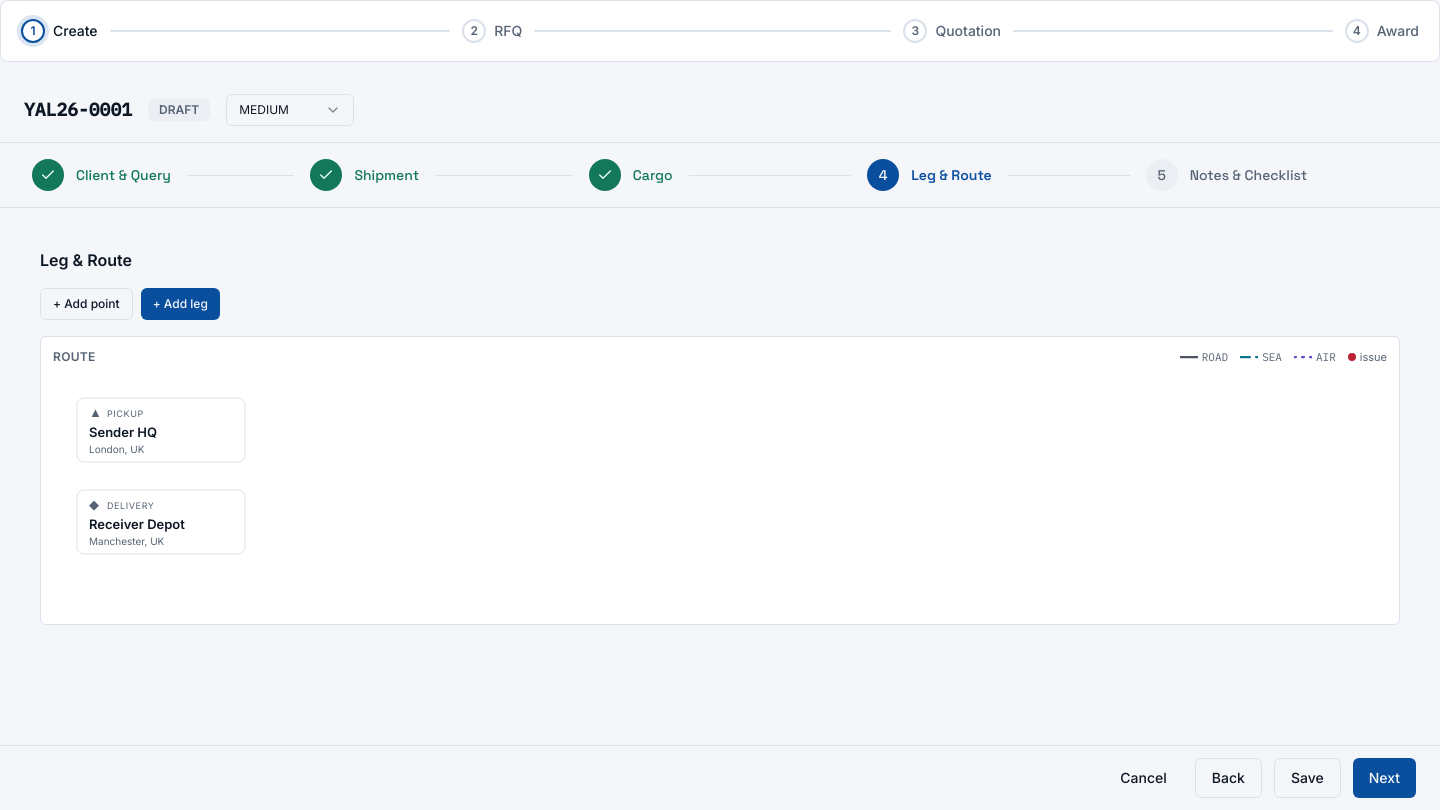
Test: LegsStep › Next advances from Step 4 even when the route has errors (Round-1 Common #5)
Expected: the text "YAL26-0001" is shown, [24,98,132,121]
Click the button "4 Leg & Route" at (929, 175), box [859,155,1000,195]
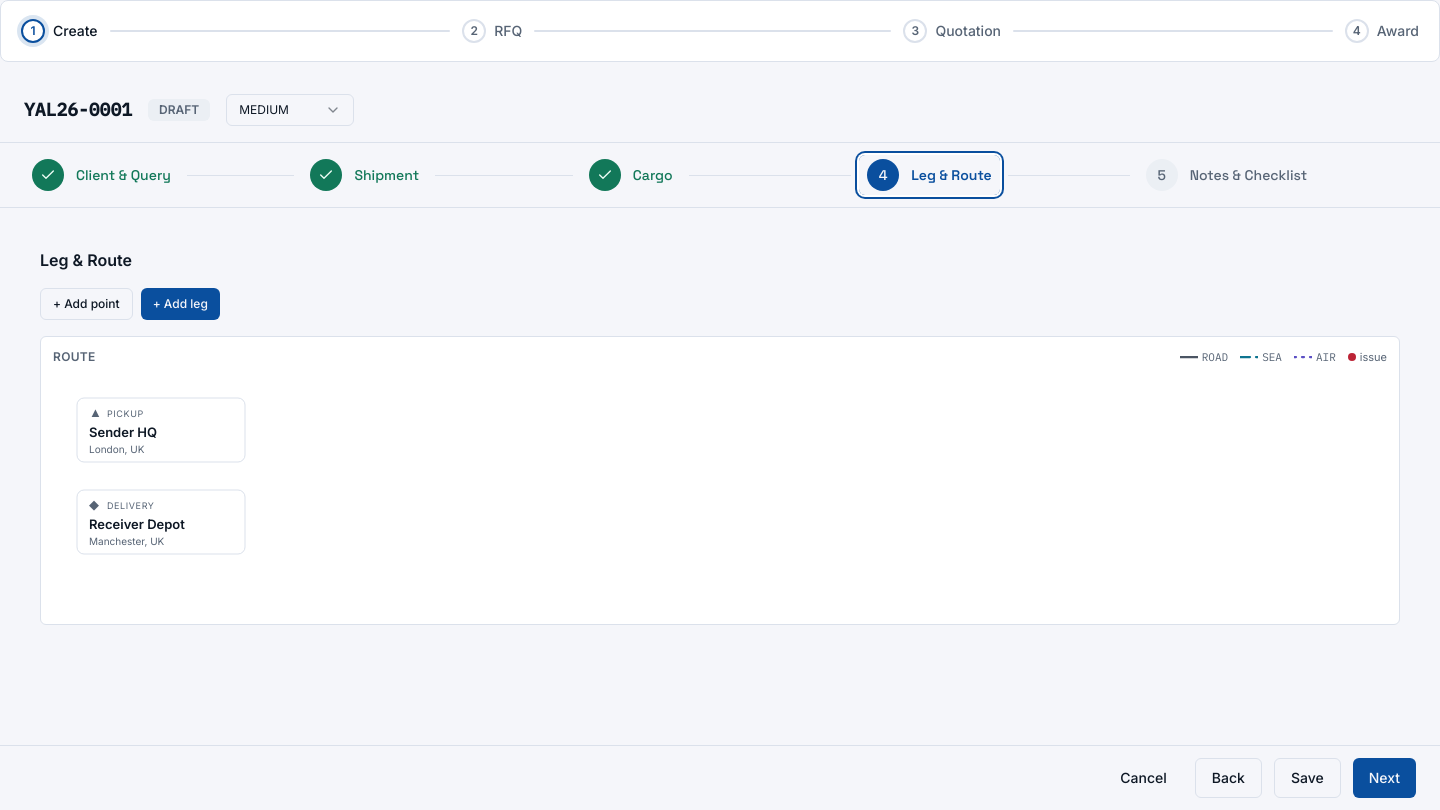
Expected: the element named "Route diagram" is shown, [40,336,1400,624]
Click the button "Next" at (1384, 778), box [1353,758,1416,798]
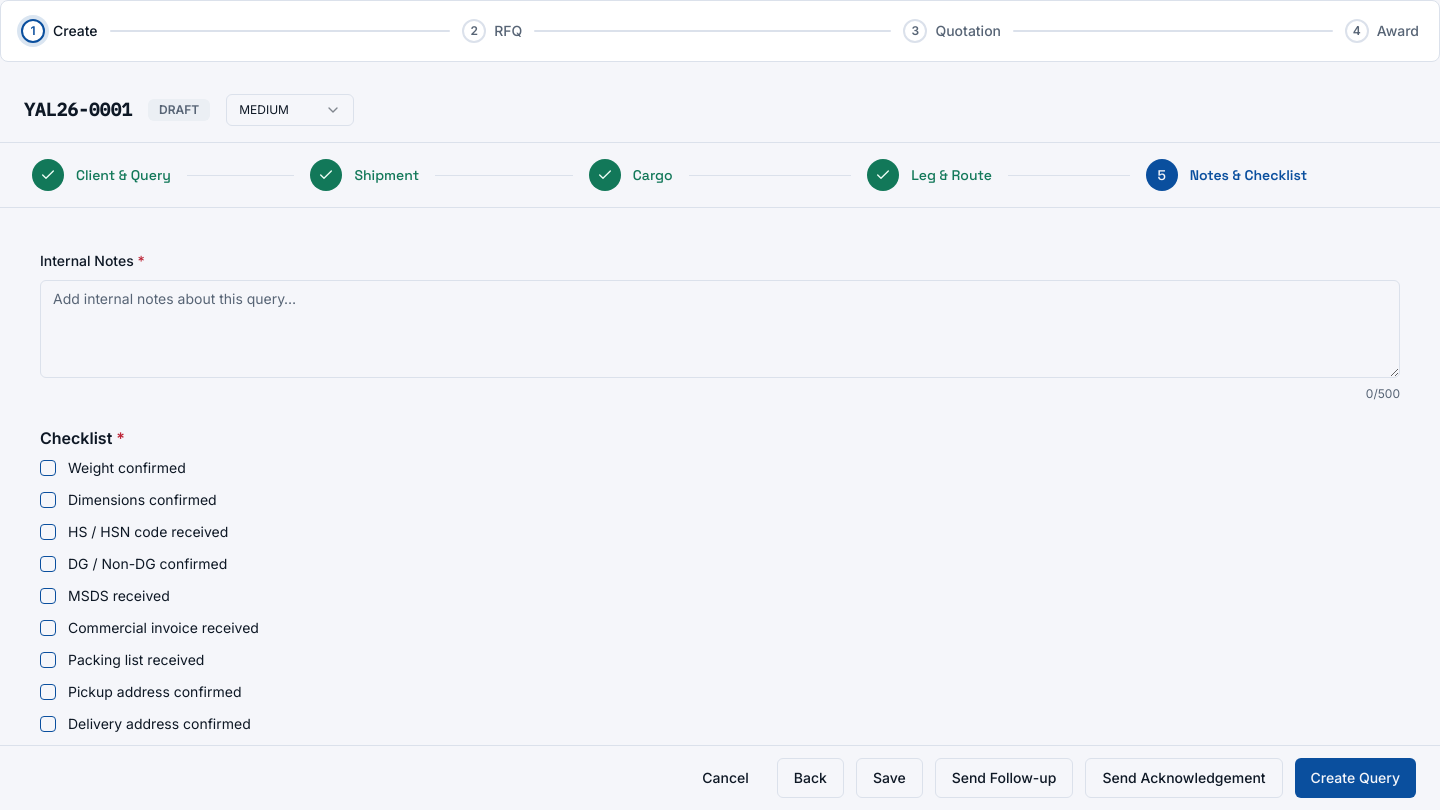
Now the text box labelled "Internal Notes *" is shown, box [40,280,1400,378]
